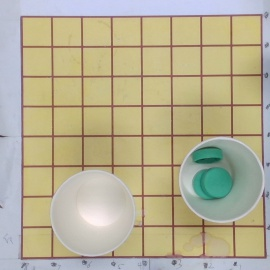cup: (50, 170, 139, 257)
cup_green: (180, 138, 265, 223)
